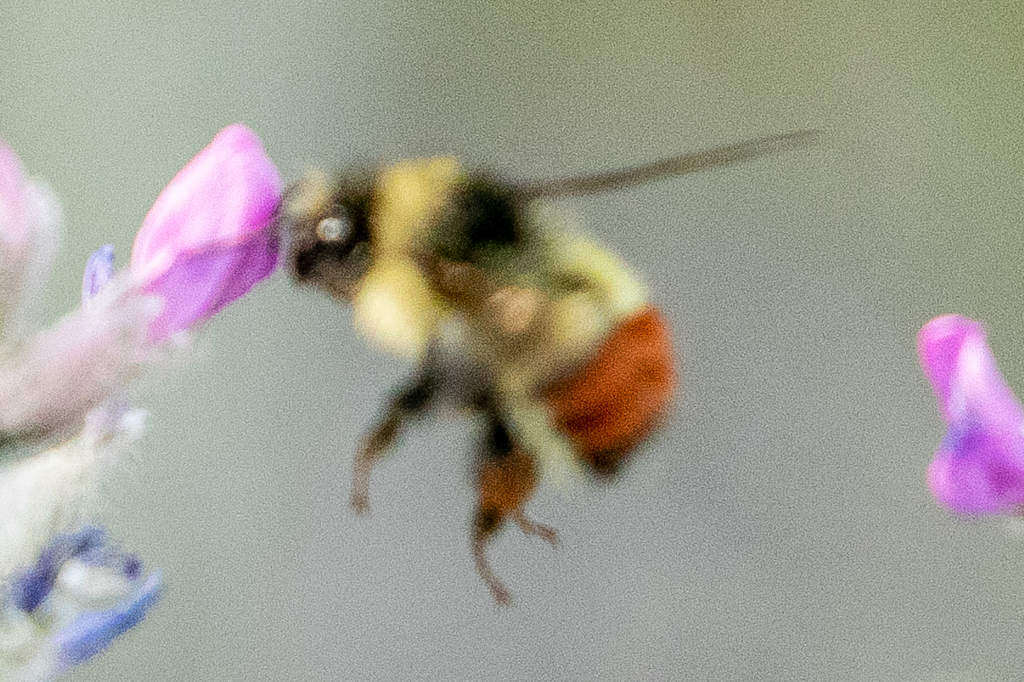bumblebee: (264, 129, 835, 609)
